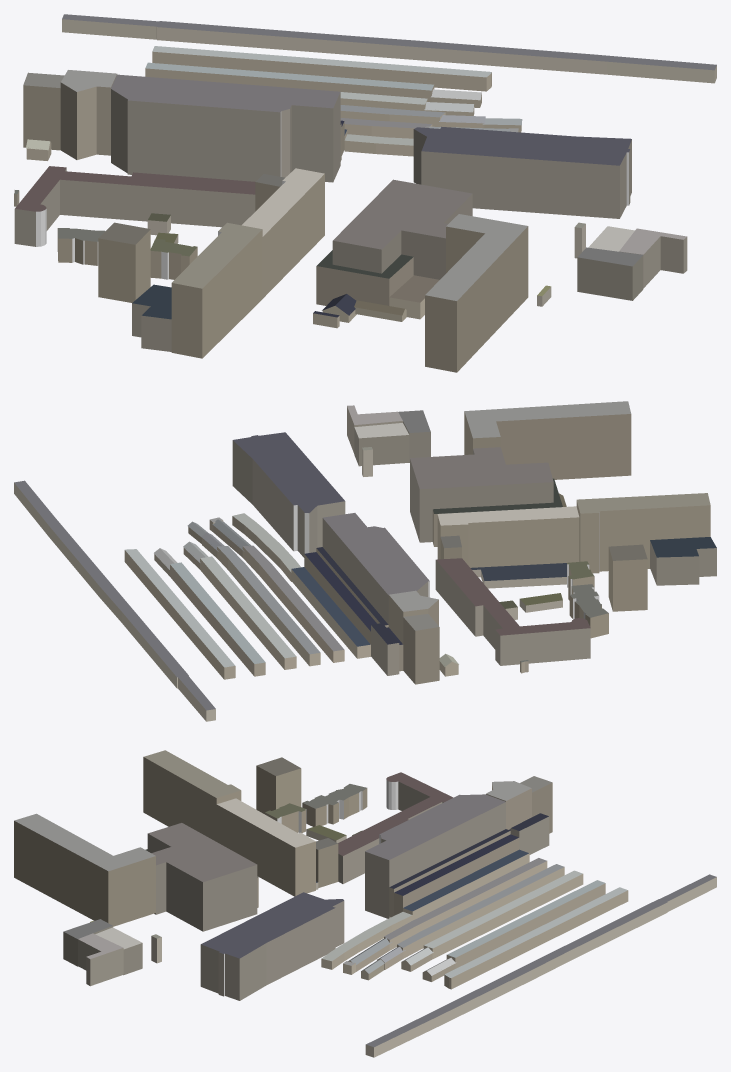
The picture shows the model from 3 angles, top to bottom: view 1: azimuth 30°, elevation 25°; view 2: azimuth 150°, elevation 25°; view 3: azimuth 270°, elevation 25°; orthographic projection. The views are drawn at different scales.
Visible parts, largest first — view 1: tuile; view 2: tuile; view 3: tuile.
Boxes of the visible parts, box(x1,y1,x2,y2) form: tuile: box(14, 14, 716, 372); tuile: box(14, 401, 716, 721); tuile: box(14, 750, 716, 1057).
Bounding box in the file's own units: 347 × 40.07 × 382.
